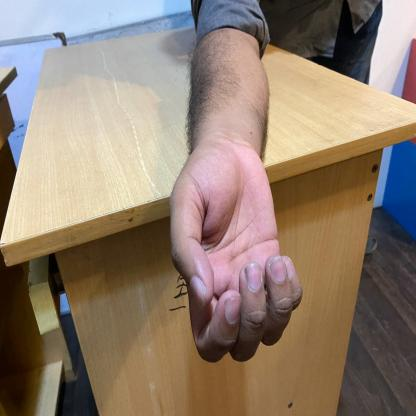hand: (163, 0, 313, 388)
